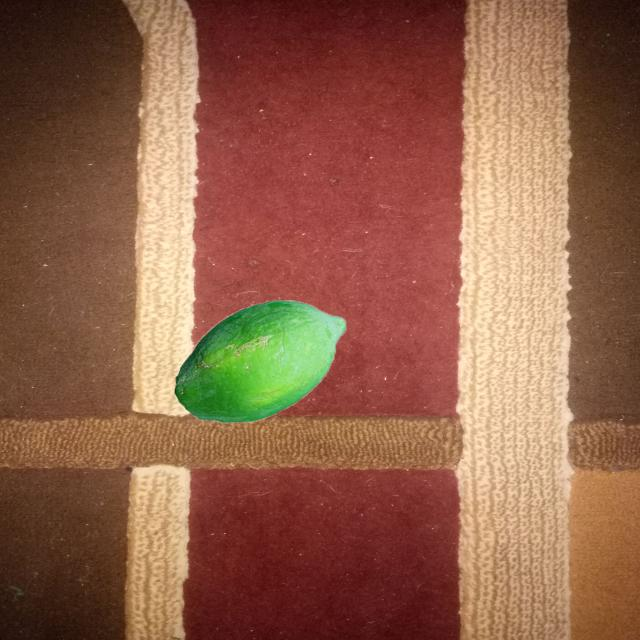Pepaya unrippen: (163, 296, 351, 428)
